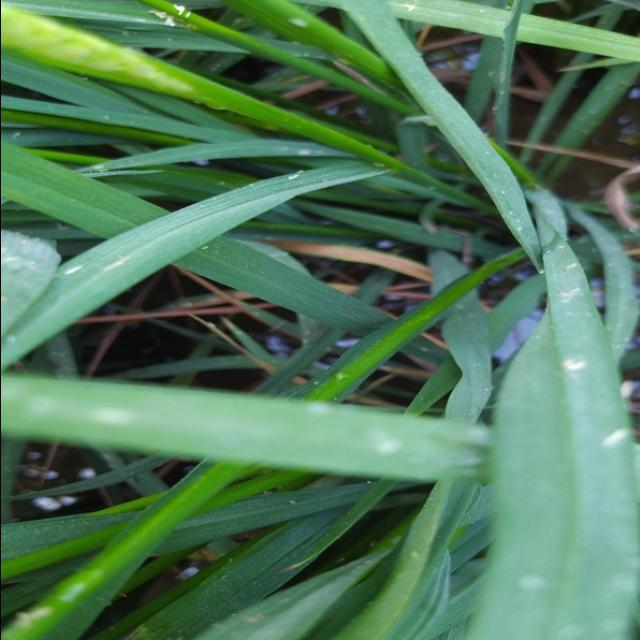Hawar Daun Bakteri: (77, 280, 248, 330), (256, 242, 434, 290), (597, 154, 640, 240)
